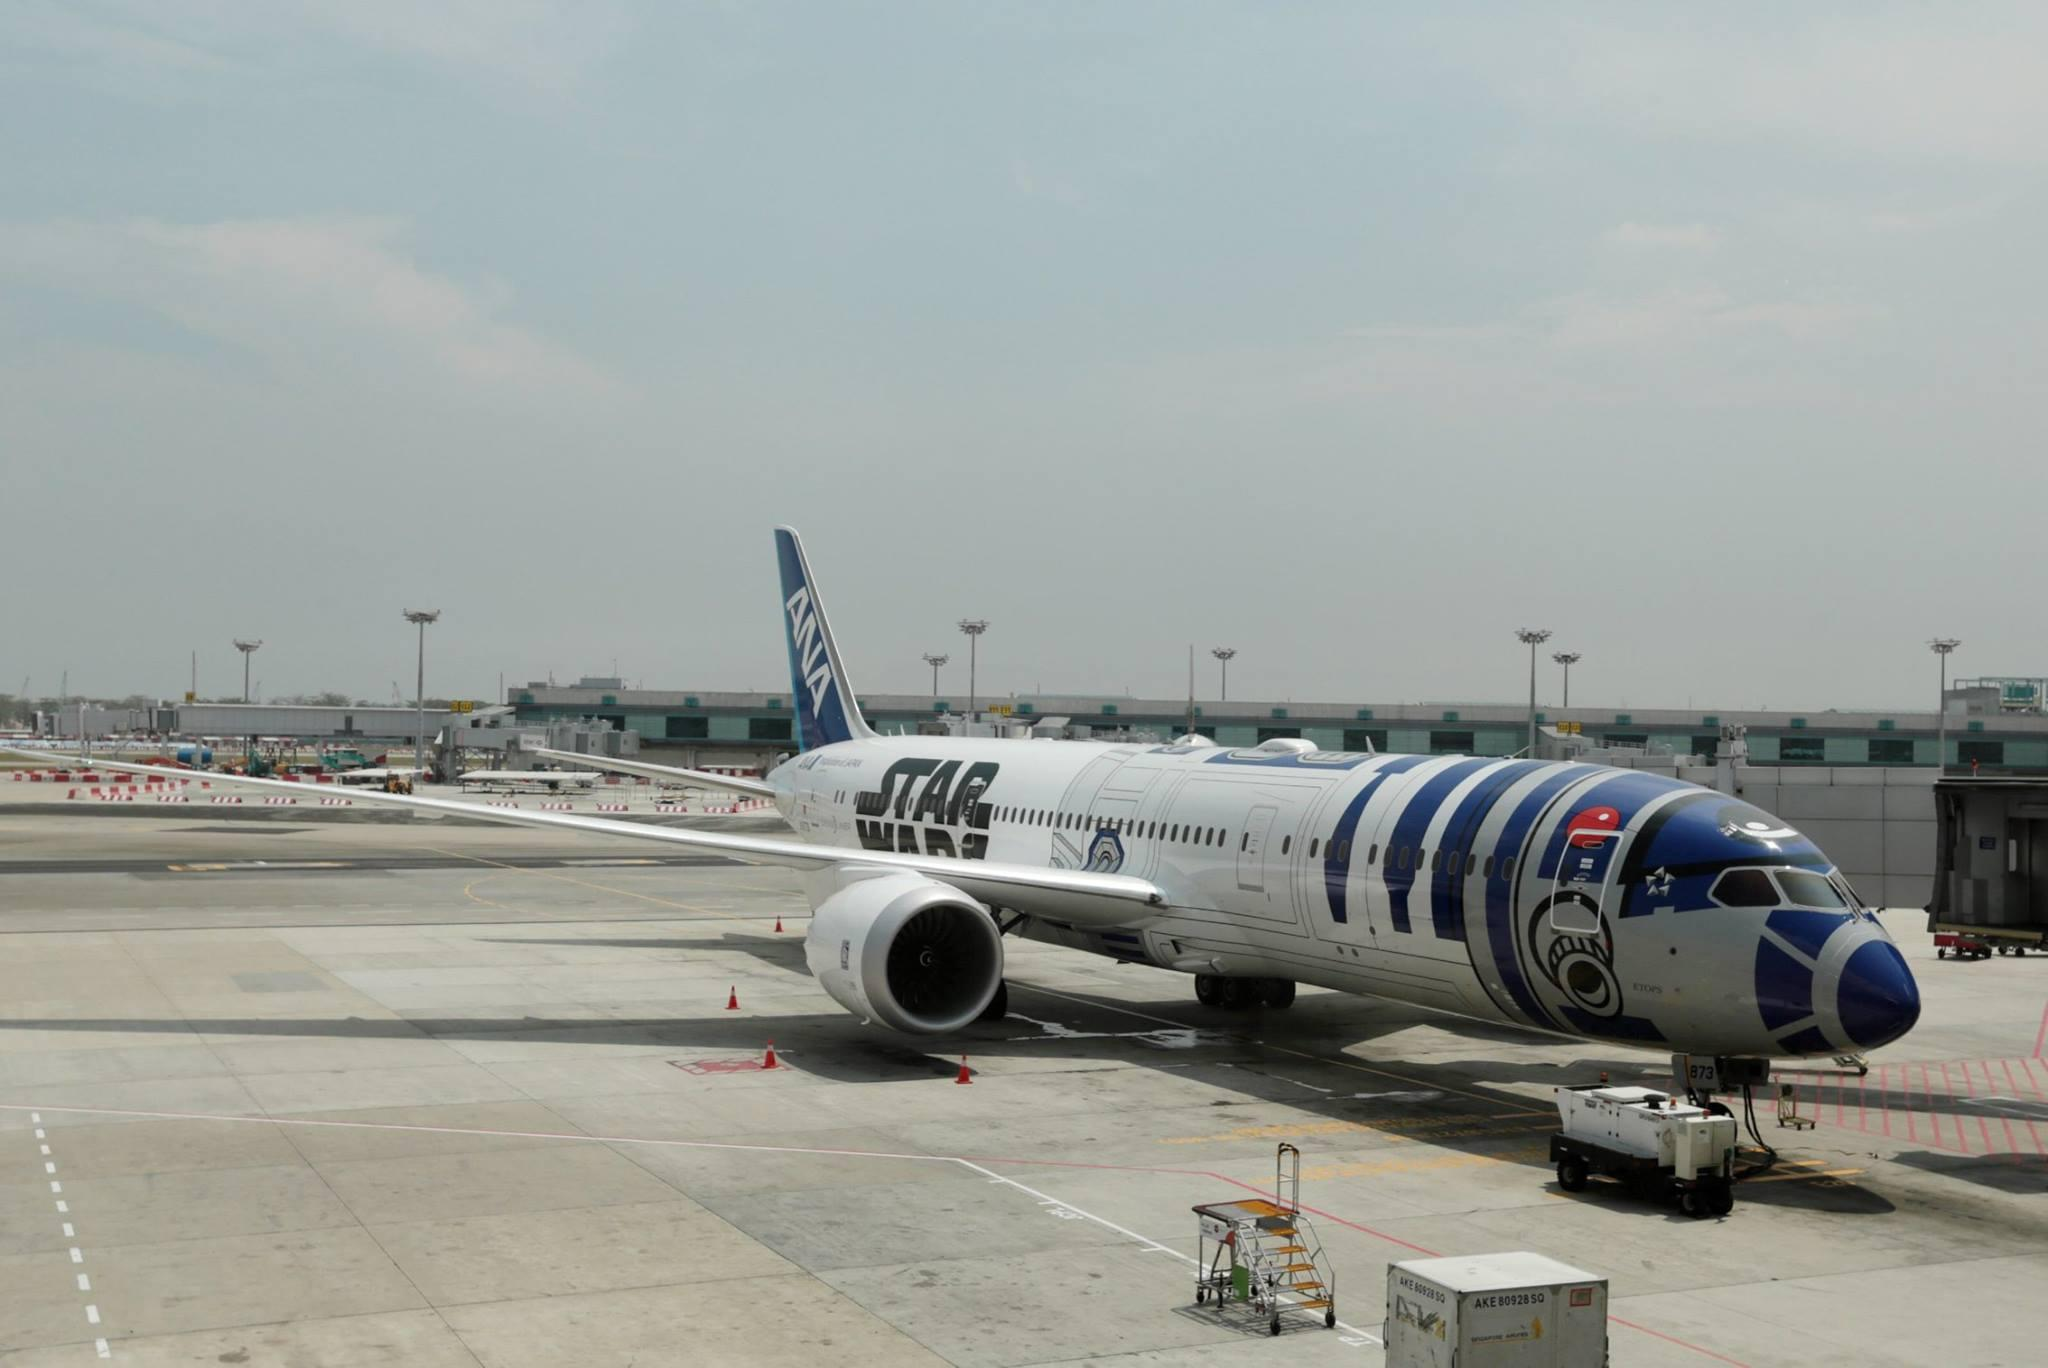airplane: (41, 518, 1930, 1137)
